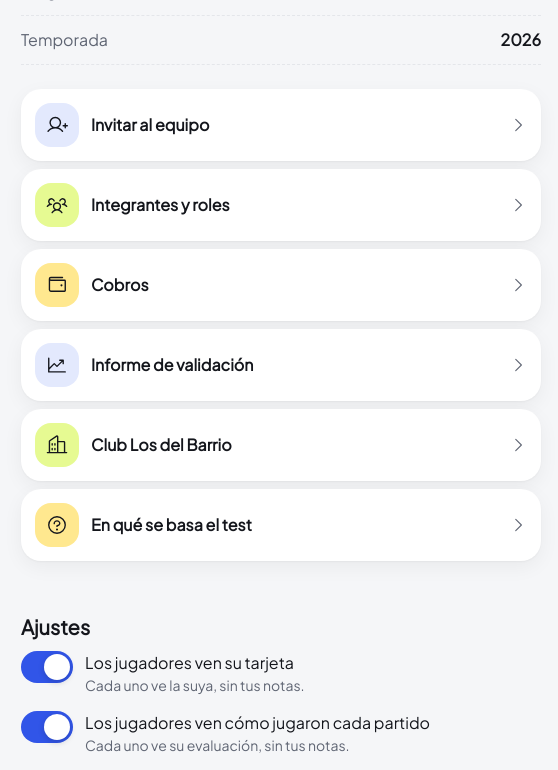
Scenario: TeamPage › el coach decide si los jugadores ven su tarjeta (D8)
(page scrolled)
Step 1. Click the switch labelled "Los jugadores ven su tarjeta" → point(47, 667), box [21,651,73,683]
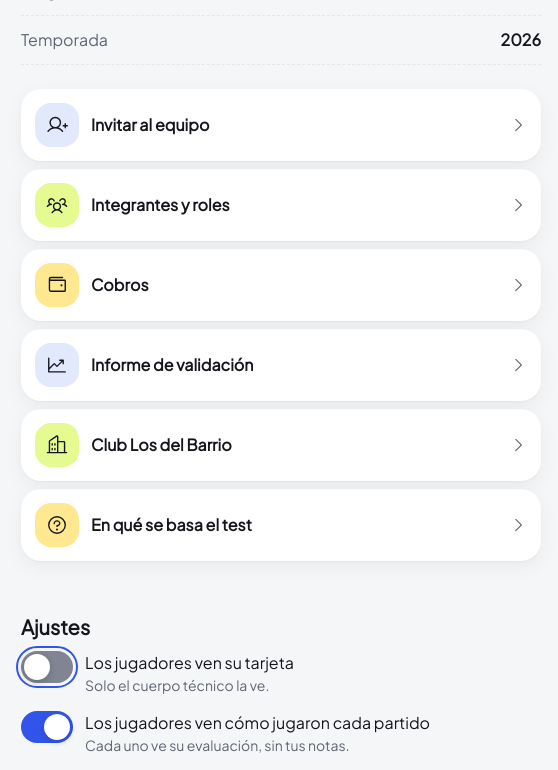
Check: the switch labelled "Los jugadores ven su tarjeta Solo el cuerpo técnico la ve." is not checked, box [21,651,73,683]
Check: the text "Solo el cuerpo técnico la ve." is shown, box [85,675,294,696]
